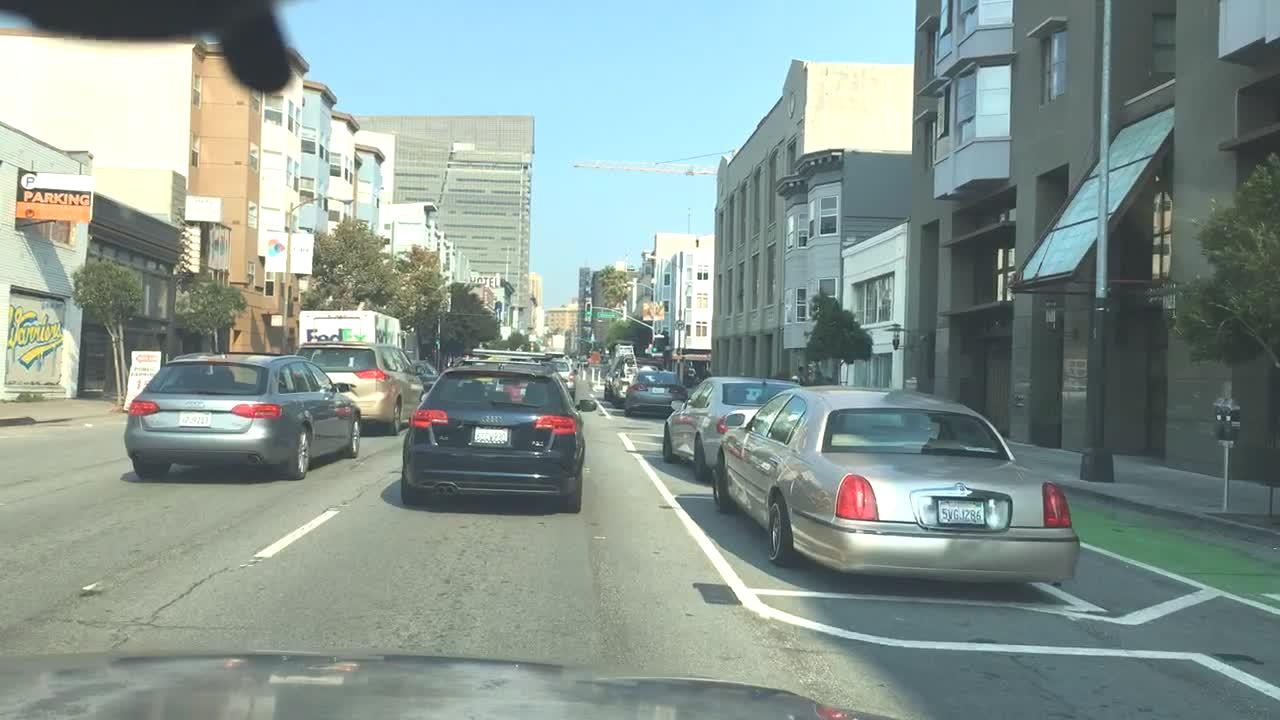Audi: (476, 411, 509, 428)
